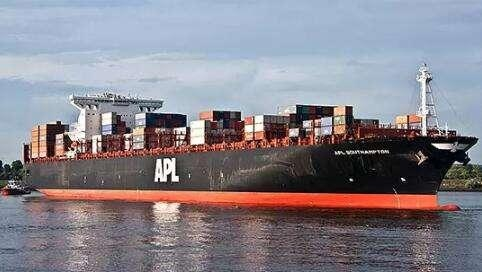Cargoship: (21, 59, 475, 213)
